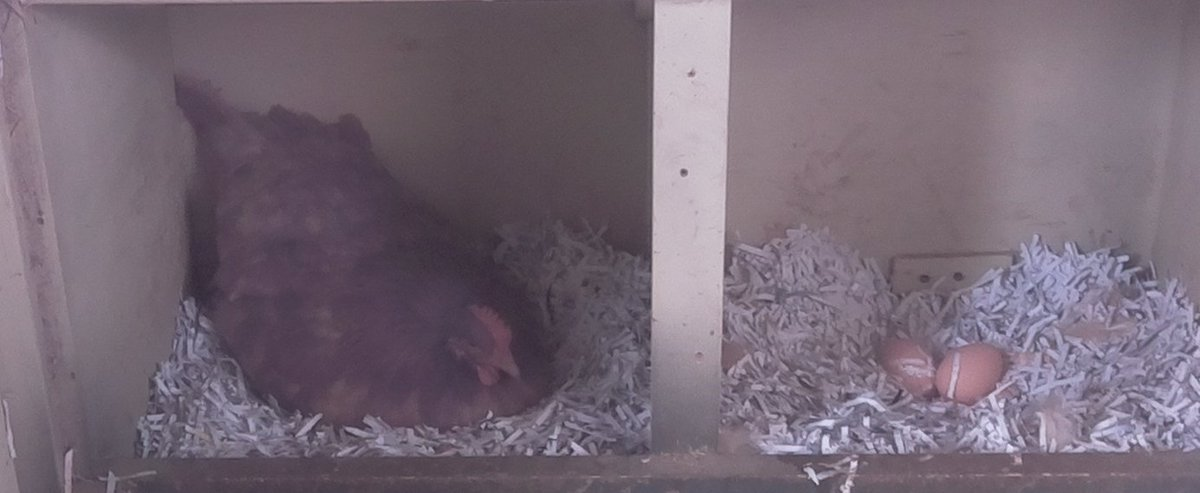egg: (930, 340, 1007, 407), (876, 331, 939, 411)
hen: (168, 71, 563, 448)
